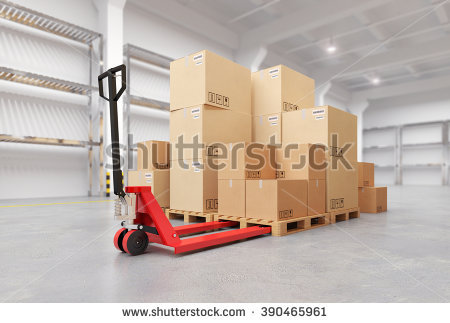pallet: (161, 200, 379, 239)
